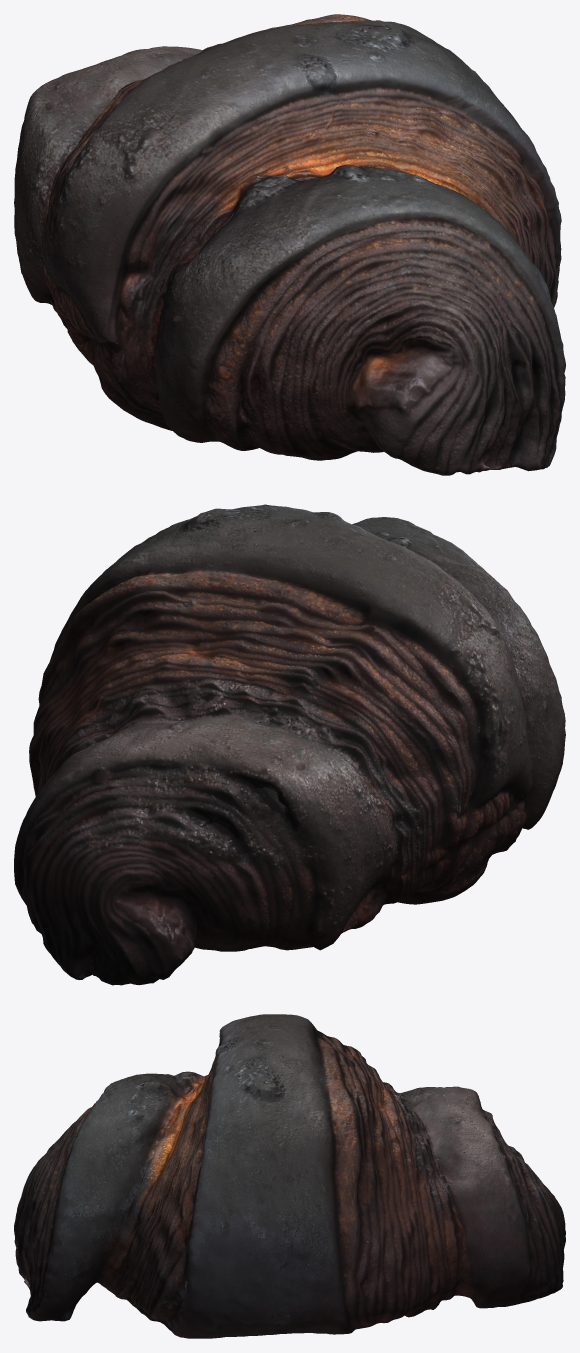
The model's file is Croissantfbx.fbx.
The picture shows the model from 3 angles, top to bottom: view 1: azimuth 30°, elevation 25°; view 2: azimuth 150°, elevation 25°; view 3: azimuth 270°, elevation 25°; orthographic projection. The views are drawn at different scales.
Visible parts, largest first — view 1: BurntCroissant; view 2: BurntCroissant; view 3: BurntCroissant.
Boxes of the visible parts, x1=… form: BurntCroissant: x1=14, y1=14, x2=565, y2=475; BurntCroissant: x1=14, y1=504, x2=565, y2=985; BurntCroissant: x1=14, y1=1014, x2=565, y2=1338.
Size of the model in its own units: 144 by 104 by 205.
